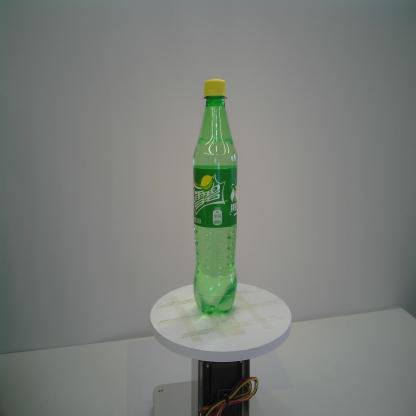Drink: (191, 76, 239, 319)
